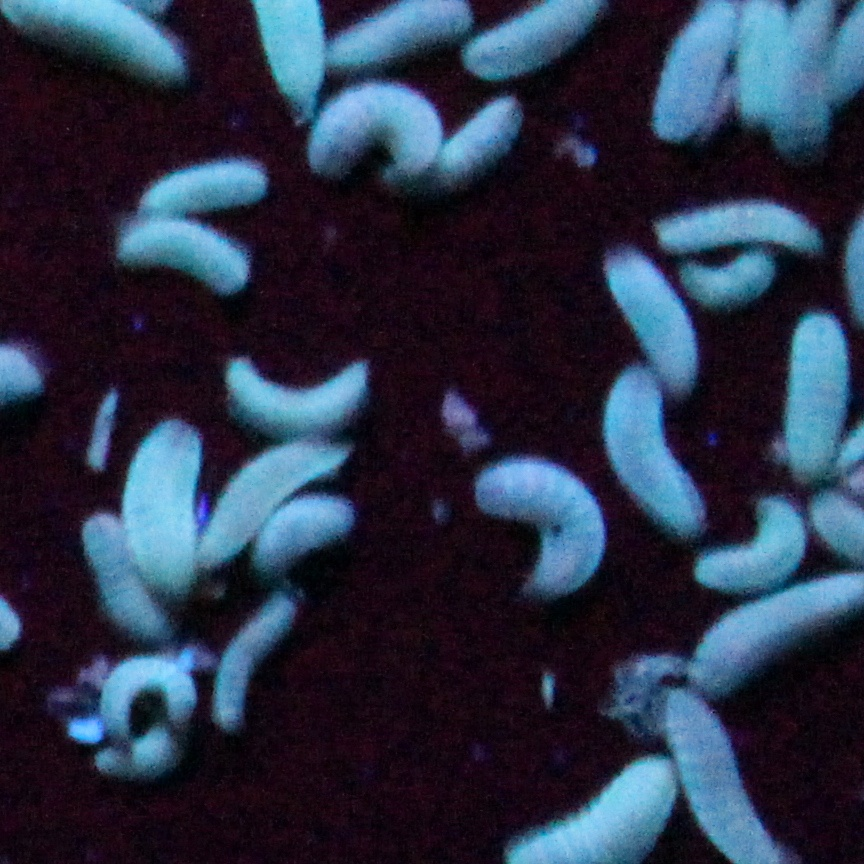larve: (198, 445, 351, 577), (476, 455, 607, 593), (609, 363, 707, 540), (312, 82, 443, 194), (605, 245, 702, 395), (121, 418, 198, 598), (74, 514, 170, 636), (221, 353, 372, 430), (215, 598, 294, 732), (690, 498, 804, 589), (656, 202, 823, 259), (113, 220, 247, 291), (104, 659, 194, 761), (436, 92, 526, 189), (794, 314, 845, 479), (251, 496, 351, 573), (139, 163, 266, 214), (680, 249, 776, 308), (102, 728, 184, 773)
